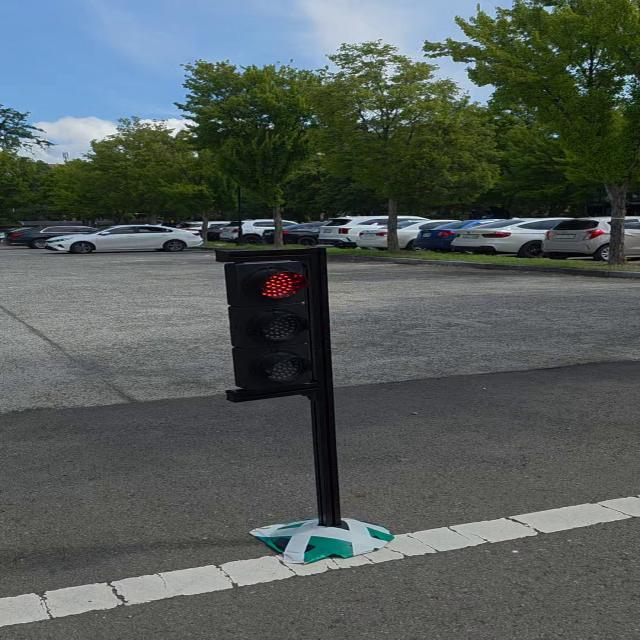red: (210, 251, 342, 402)
